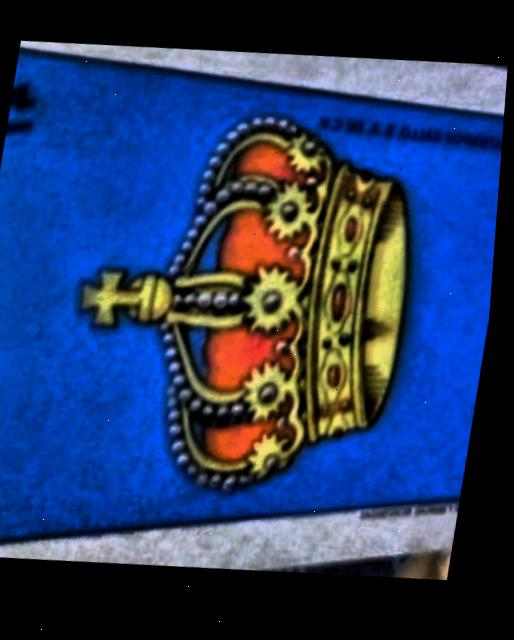La Corona: (0, 51, 506, 541)
